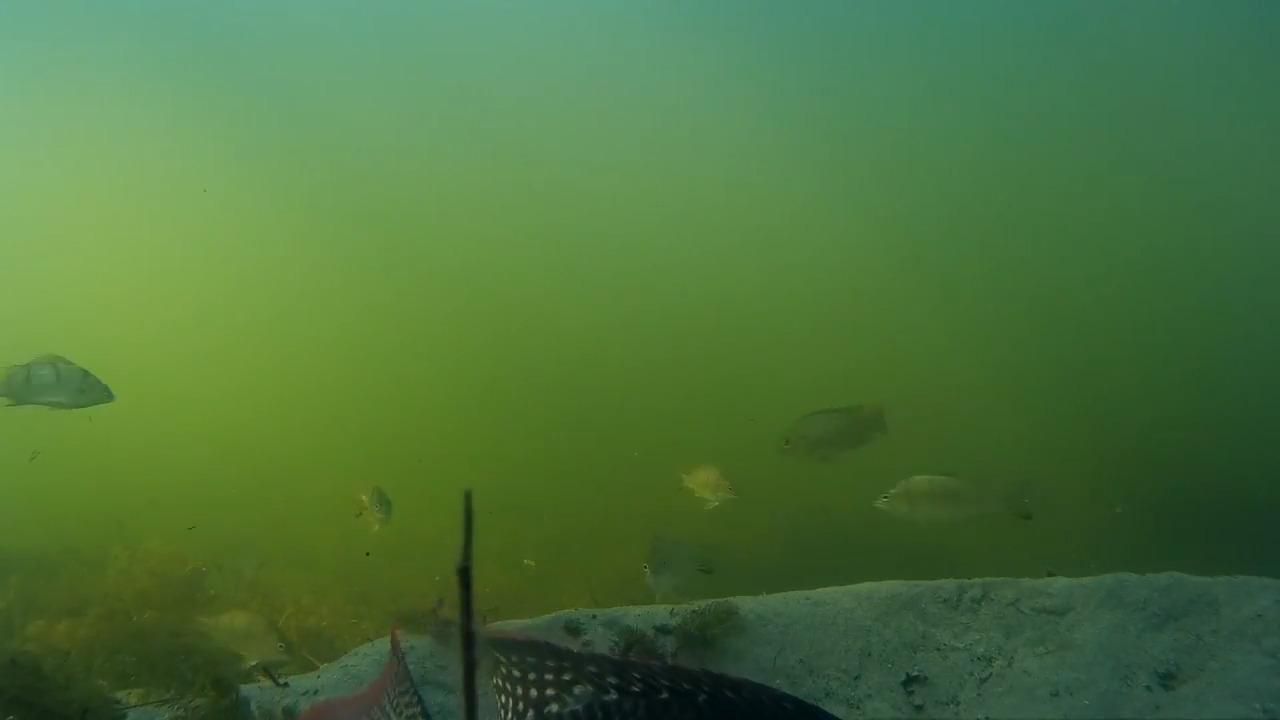Tilapia: (279, 604, 870, 720), (0, 346, 127, 420), (868, 474, 1039, 526), (775, 394, 894, 460), (676, 458, 751, 522), (640, 528, 731, 580), (357, 490, 402, 526)
